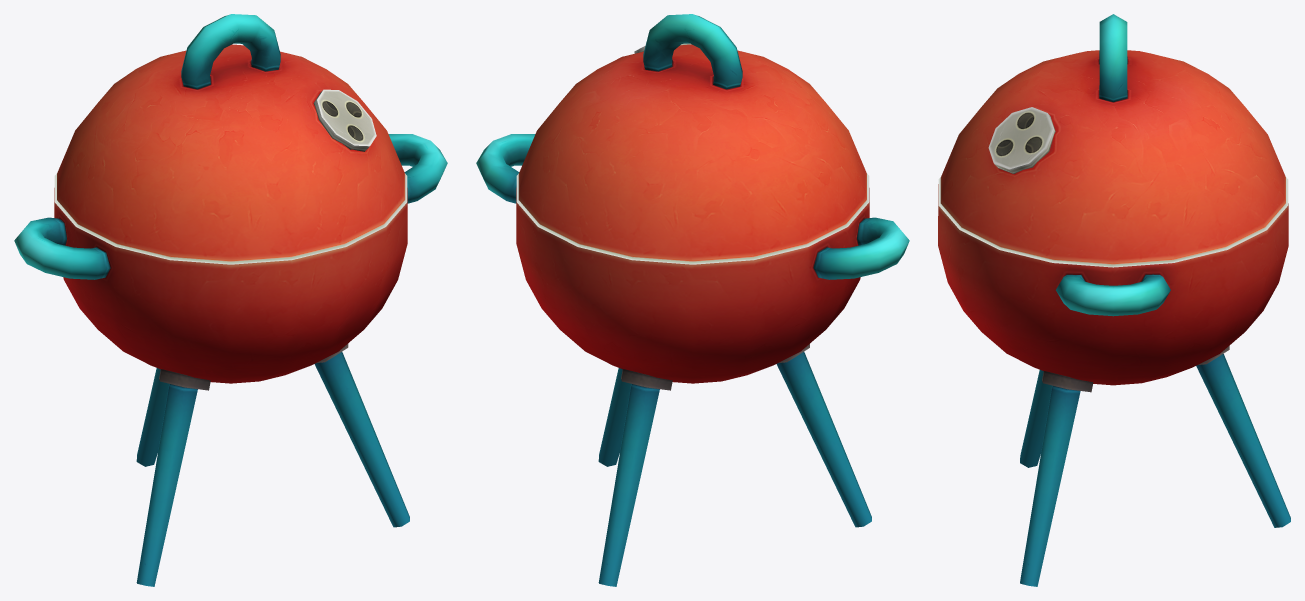
The model's file is SE_Grill_01.fbx.
The picture shows the model from 3 angles, left to right: view 1: azimuth 30°, elevation 25°; view 2: azimuth 150°, elevation 25°; view 3: azimuth 270°, elevation 25°; orthographic projection.
Visible parts, largest first — view 1: SE_Grill_01; view 2: SE_Grill_01; view 3: SE_Grill_01.
Boxes of the visible parts, x1,y1,x2,y2 form: SE_Grill_01: [14, 14, 447, 586]; SE_Grill_01: [476, 14, 909, 586]; SE_Grill_01: [938, 14, 1290, 586].
Size of the model in its own units: 3.3 by 3.86 by 2.43.
